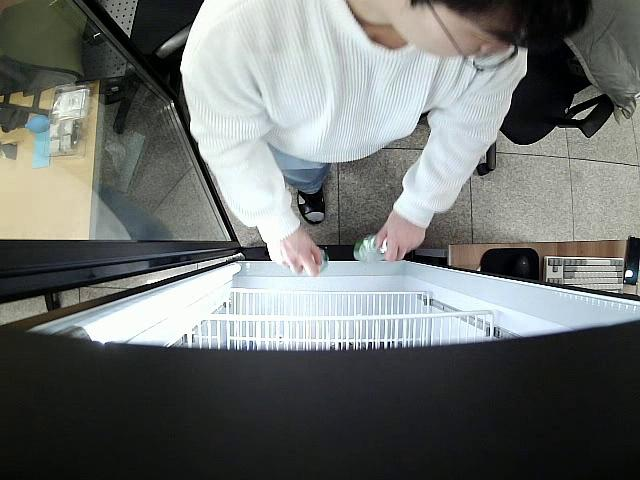00_hand: (267, 226, 324, 279), (374, 209, 425, 259)
18_trevi: (354, 235, 389, 268)
